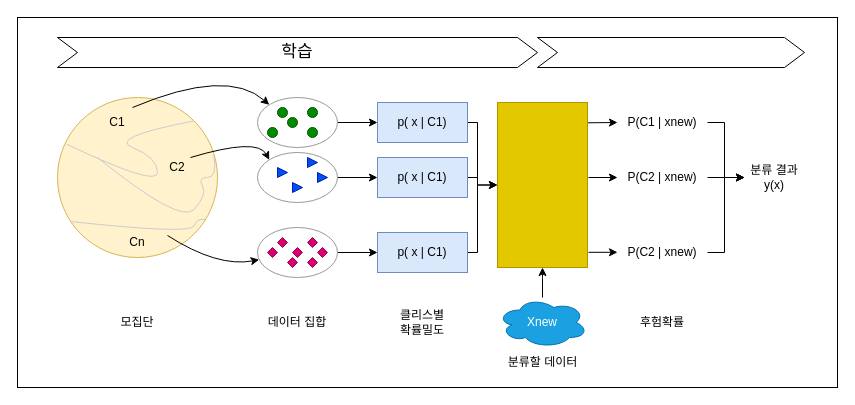
Image size: 855x405. Some labels were removed from this diagram. Here are the shapes that lost their labels. From the top down, the box of each, then its label:
(536, 36, 804, 68): 분류
(496, 102, 588, 268): Classifier
